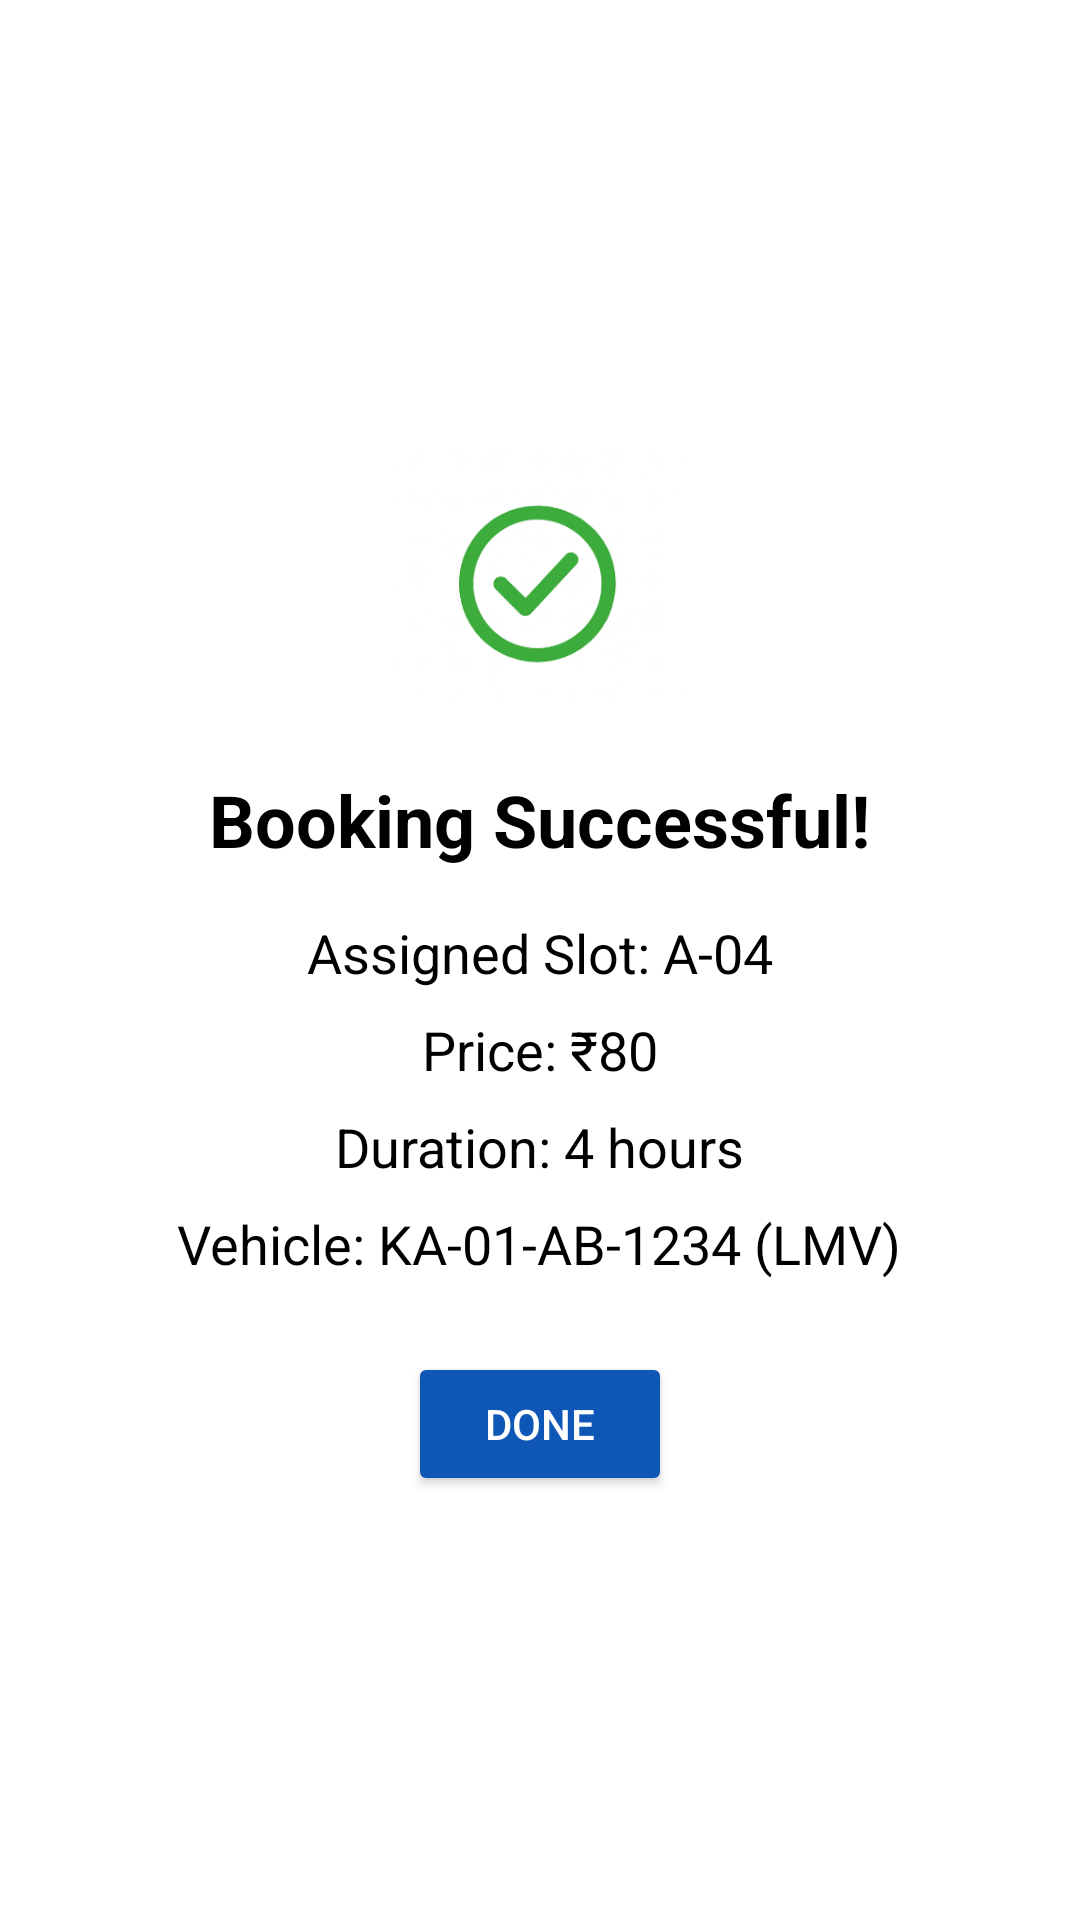

Point at icon controls on the screen. Image size 1080 x 1920, points as [x,y].
Success Icon: [537,584]
